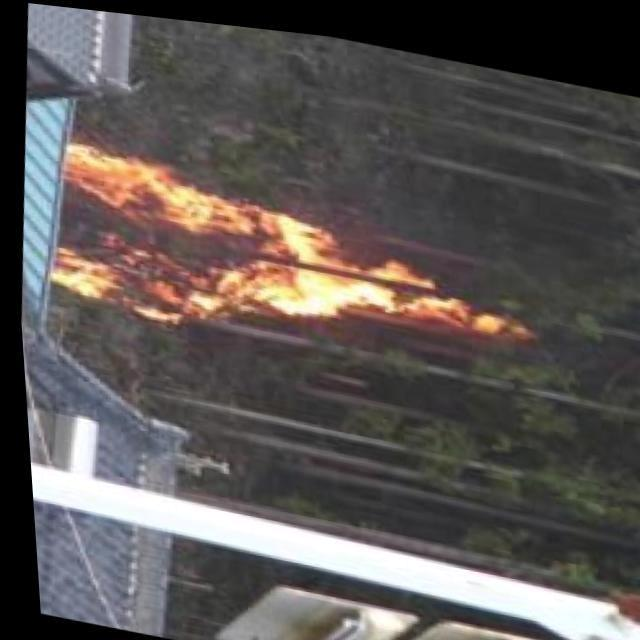fire: (38, 138, 478, 376)
